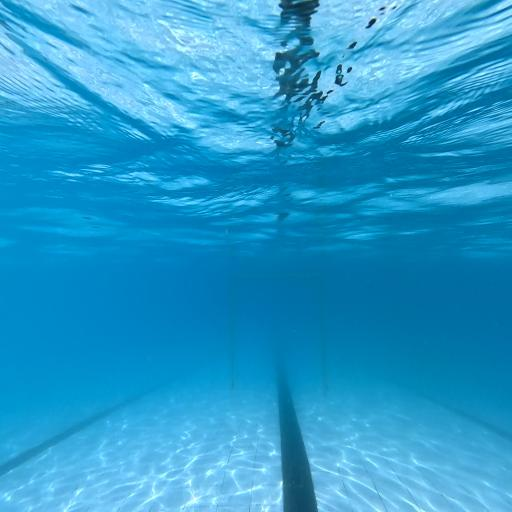gate: (230, 274, 328, 396)
